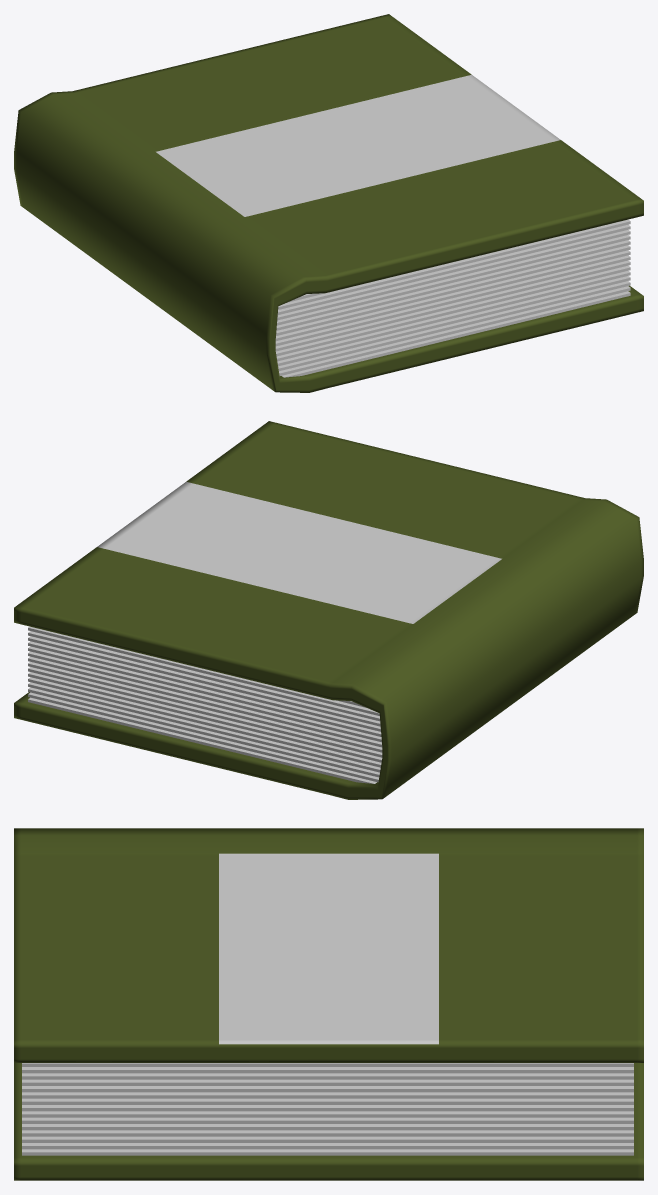
The model's file is book.obj.
3 views of the same model, one above another, from view 1: azimuth 30°, elevation 25°; view 2: azimuth 150°, elevation 25°; view 3: azimuth 270°, elevation 25° (orthographic). The views are drawn at different scales.
Visible parts, largest first — view 1: book_close_paper.016_Cube.017; view 2: book_close_paper.016_Cube.017; view 3: book_close_paper.016_Cube.017.
Part boxes in pixels (box(x1,y1,x2,y2)): book_close_paper.016_Cube.017: box(14, 14, 643, 392); book_close_paper.016_Cube.017: box(14, 421, 643, 799); book_close_paper.016_Cube.017: box(14, 828, 643, 1180).
Size of the model in its own units: 0.1263 by 0.0369 by 0.1488.
